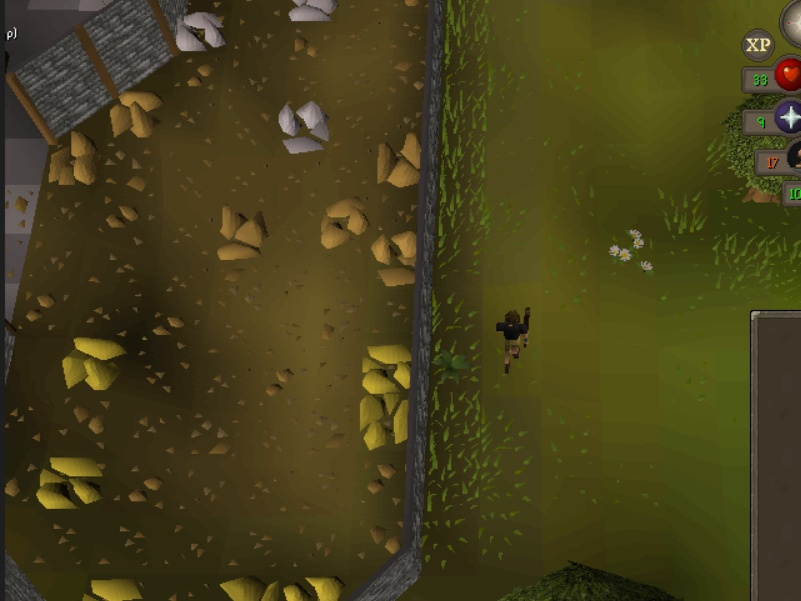clay: (43, 126, 104, 191), (367, 130, 428, 195), (209, 199, 270, 264), (104, 78, 165, 143), (367, 224, 428, 289), (309, 194, 373, 251)
gold: (59, 325, 128, 397), (37, 442, 106, 514), (351, 392, 412, 461), (349, 343, 417, 397)
silver: (274, 98, 334, 155), (169, 1, 229, 57), (283, 1, 341, 26)
